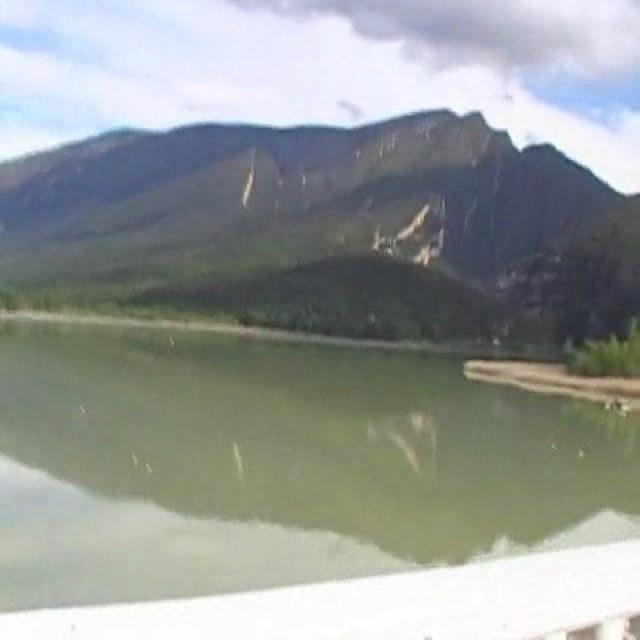other: (130, 556, 635, 632)
